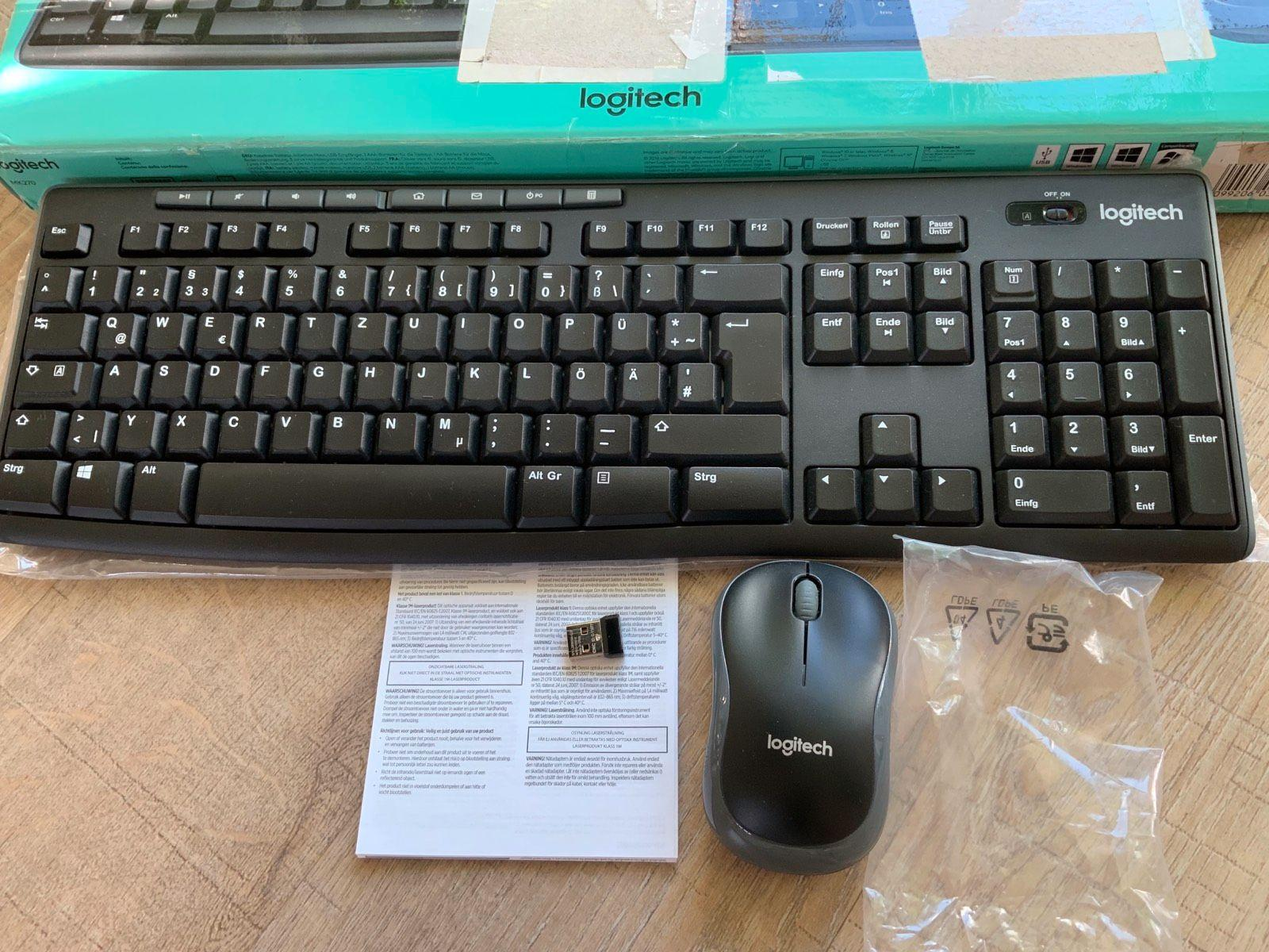0: (529, 259, 571, 302)
1: (79, 261, 117, 303)
2: (126, 261, 167, 305)
3: (174, 260, 215, 303)
4: (224, 259, 264, 301)
5: (274, 259, 314, 302)
6: (324, 259, 366, 301)
7: (375, 259, 416, 303)
8: (427, 259, 468, 303)
9: (477, 259, 519, 302)
a: (97, 356, 137, 400)
accent: (634, 259, 674, 300)
ae: (618, 358, 659, 400)
alt-left: (126, 456, 186, 517)
altgr-right: (516, 460, 576, 522)
b: (320, 407, 362, 451)
c: (214, 406, 258, 450)
caret: (31, 263, 70, 302)
comma: (481, 408, 523, 453)
d: (197, 356, 239, 400)
del: (688, 259, 782, 300)
e: (193, 308, 234, 351)
enter: (713, 308, 783, 402)
f: (249, 357, 291, 399)
g: (301, 357, 341, 398)
h: (354, 358, 394, 399)
hash: (672, 358, 713, 401)
i: (450, 309, 490, 348)
j: (406, 358, 446, 399)
k: (459, 358, 500, 399)
keyboard: (4, 172, 1257, 558)
l: (512, 358, 552, 399)
less: (63, 405, 105, 451)
m: (427, 408, 470, 454)
minus: (588, 410, 631, 454)
n: (374, 408, 416, 452)
o: (501, 309, 542, 349)
oe: (564, 358, 605, 400)
p: (554, 309, 594, 349)
plus: (659, 307, 701, 351)
point: (534, 409, 576, 453)
q: (94, 309, 135, 351)
r: (243, 308, 285, 349)
s: (147, 357, 187, 399)
shift-left: (2, 406, 56, 449)
shift-lock: (11, 356, 91, 401)
shift-right: (642, 409, 781, 453)
space: (190, 458, 508, 523)
ss: (581, 259, 623, 302)
strg-left: (1, 456, 57, 504)
strg-right: (681, 463, 787, 513)
t: (295, 309, 335, 348)
tab: (21, 308, 85, 350)
u: (397, 309, 438, 349)
ue: (607, 308, 647, 350)
v: (268, 406, 310, 449)
w: (143, 308, 183, 349)
x: (164, 406, 207, 451)
y: (113, 405, 155, 450)
z: (346, 308, 386, 349)
